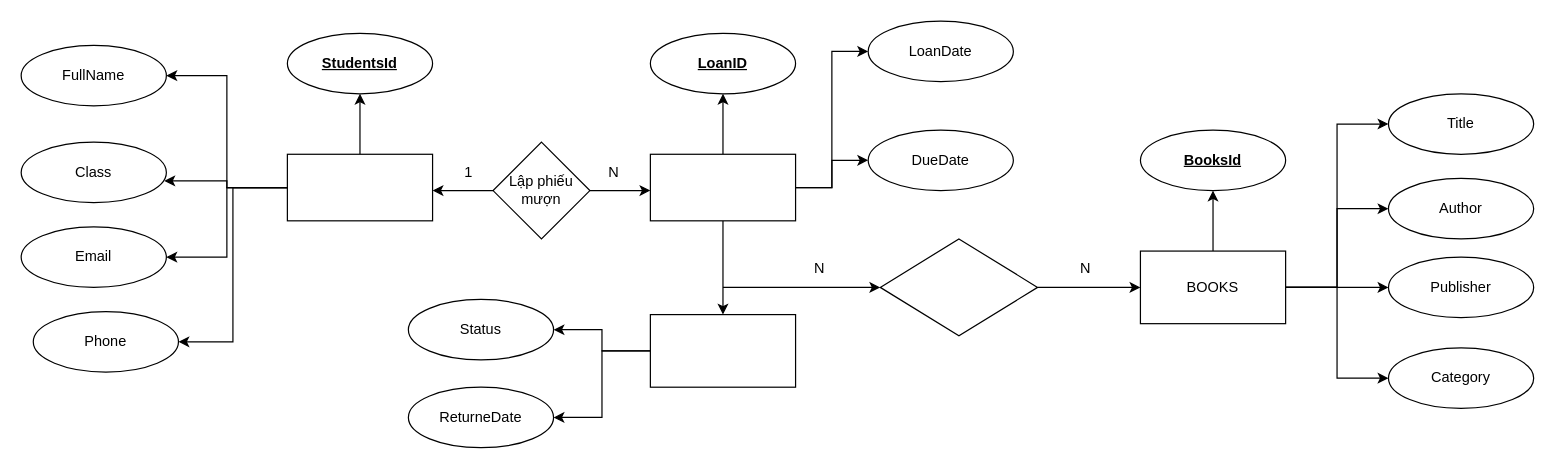
Image size: 1555x469. Some labels were removed from this diagram. Each missing label, with the centre of its shape:
AUTHORS: (722,187)
Chi tiết phiếu mượn: (958,287)
LOAN_DETAILS: (722,350)
STUDENTS: (359,187)
